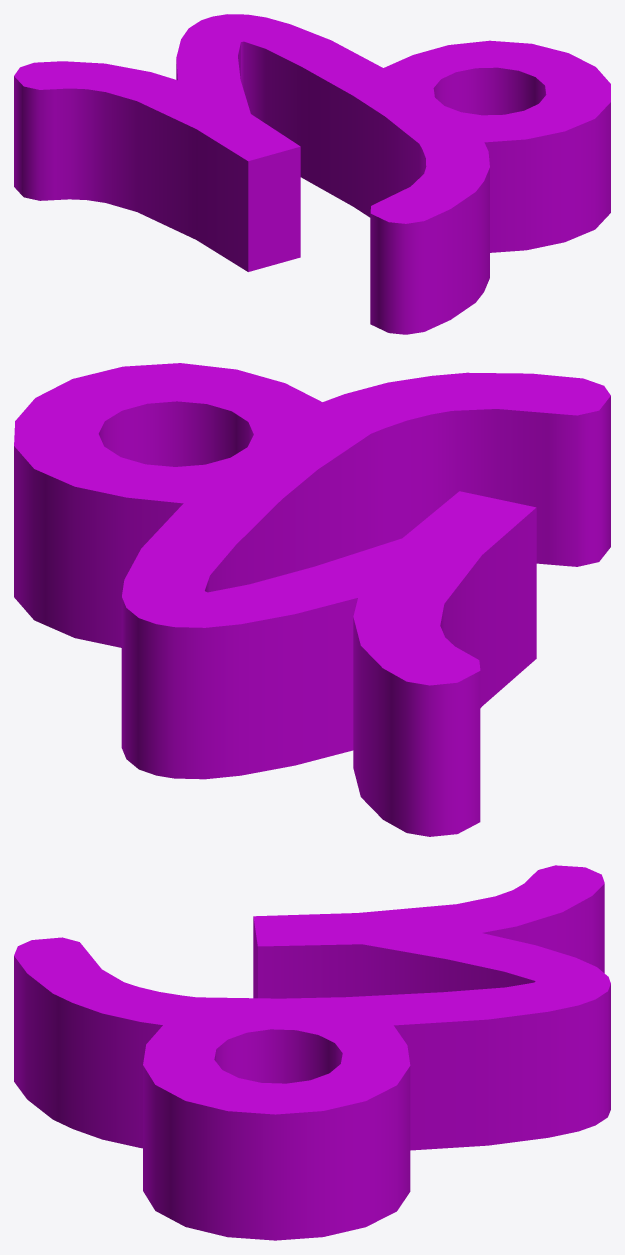
The model's file is Capricorn.fbx.
The picture shows the model from 3 angles, top to bottom: view 1: azimuth 30°, elevation 25°; view 2: azimuth 150°, elevation 25°; view 3: azimuth 270°, elevation 25°; orthographic projection. The views are drawn at different scales.
Parts seen in each view (by area): view 1: 10.CAPRICORN; view 2: 10.CAPRICORN; view 3: 10.CAPRICORN.
Part boxes in pixels (x1=…): 10.CAPRICORN: x1=14, y1=14, x2=610, y2=334; 10.CAPRICORN: x1=14, y1=363, x2=610, y2=836; 10.CAPRICORN: x1=14, y1=865, x2=610, y2=1240.
Bounding box in the file's own units: 151 × 35.7 × 153.
